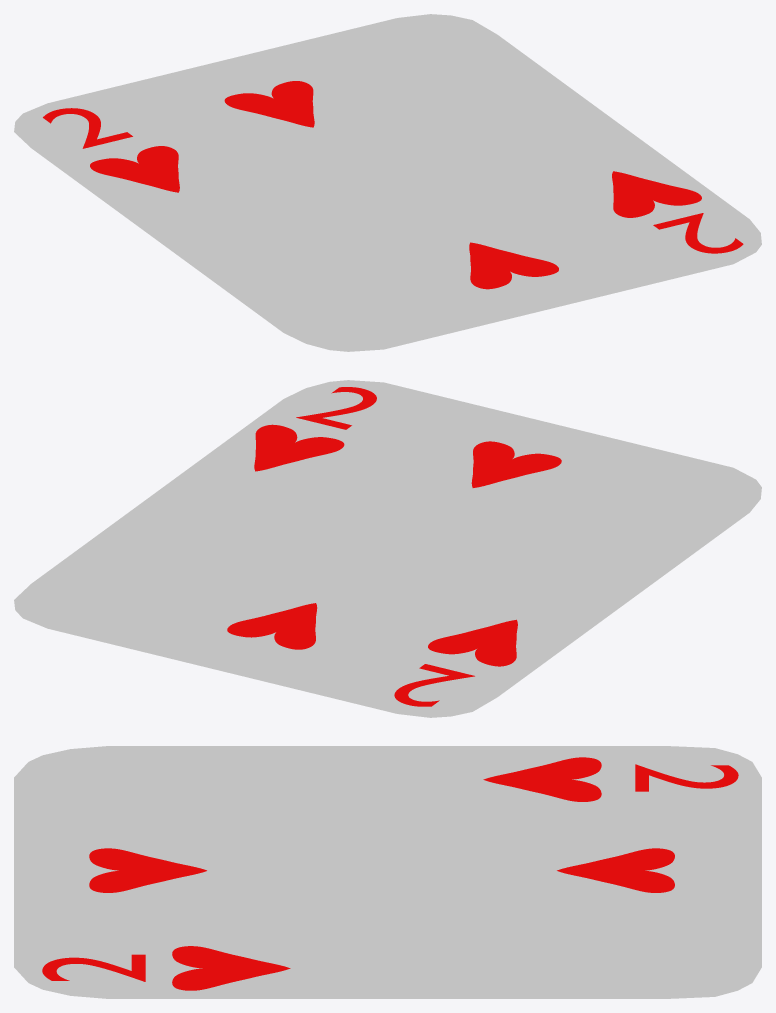
3 renders of one model, top to bottom at view 1: azimuth 30°, elevation 25°; view 2: azimuth 150°, elevation 25°; view 3: azimuth 270°, elevation 25°, orthographic. The views are drawn at different scales.
Parts seen in each view (by area): view 1: 2ofHearts, Plane.004_Red, Plane.003_Red, Plane.002_Red, Plane.005_Red, Font.004_Bla_Blac.002, Font.003_Bla_Blac.002; view 2: 2ofHearts, Plane.005_Red, Plane.002_Red, Plane.004_Red, Plane.003_Red, Font.003_Bla_Blac.002, Font.004_Bla_Blac.002; view 3: 2ofHearts, Plane.005_Red, Plane.002_Red, Plane.004_Red, Plane.003_Red, Font.004_Bla_Blac.002, Font.003_Bla_Blac.002.
Part boxes in pixels (x1,y1,x2,y2): 2ofHearts: (14, 14, 761, 351); Plane.004_Red: (224, 81, 314, 127); Plane.003_Red: (612, 171, 701, 217); Plane.002_Red: (90, 146, 179, 192); Plane.005_Red: (469, 242, 558, 289); Font.004_Bla_Blac.002: (653, 213, 743, 253); Font.003_Bla_Blac.002: (43, 108, 132, 148); 2ofHearts: (14, 380, 761, 717); Plane.005_Red: (471, 441, 561, 487); Plane.002_Red: (428, 619, 517, 666); Plane.004_Red: (227, 603, 317, 649); Plane.003_Red: (254, 424, 344, 471); Font.003_Bla_Blac.002: (394, 664, 474, 706); Font.004_Bla_Blac.002: (296, 387, 376, 429); 2ofHearts: (14, 746, 761, 998); Plane.005_Red: (89, 848, 206, 892); Plane.002_Red: (483, 757, 601, 801); Plane.004_Red: (557, 848, 674, 892); Plane.003_Red: (172, 946, 290, 990); Font.004_Bla_Blac.002: (42, 954, 145, 981); Font.003_Bla_Blac.002: (635, 764, 738, 791).
Bounding box in the file's own units: 1.6 × 0.00456 × 2.
